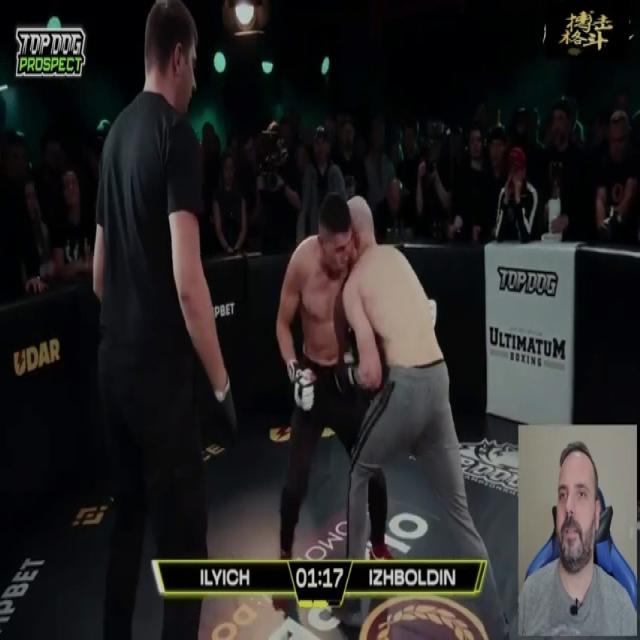fight: (269, 192, 510, 638)
non-fight: (73, 0, 252, 639)
